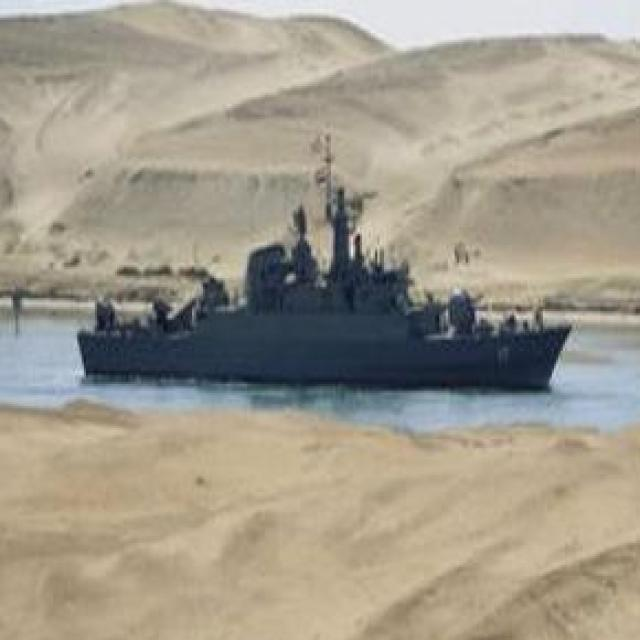navalvessels: (62, 172, 576, 380)
